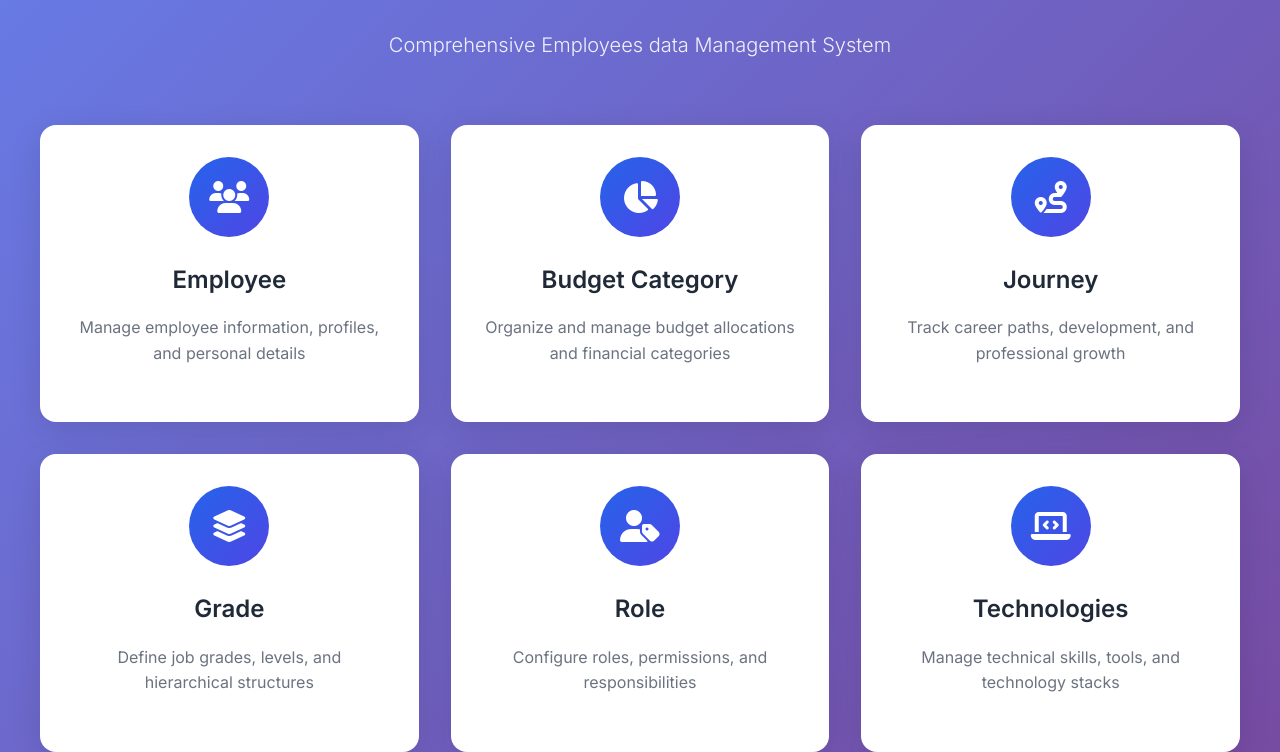
Test case: Master Portal - Role Management › should navigate to Role Management
The image size is (1280, 752).
(page scrolled)
Click the text "Role". click: point(641, 603)
box: [451,454,830,751]
(page scrolled)
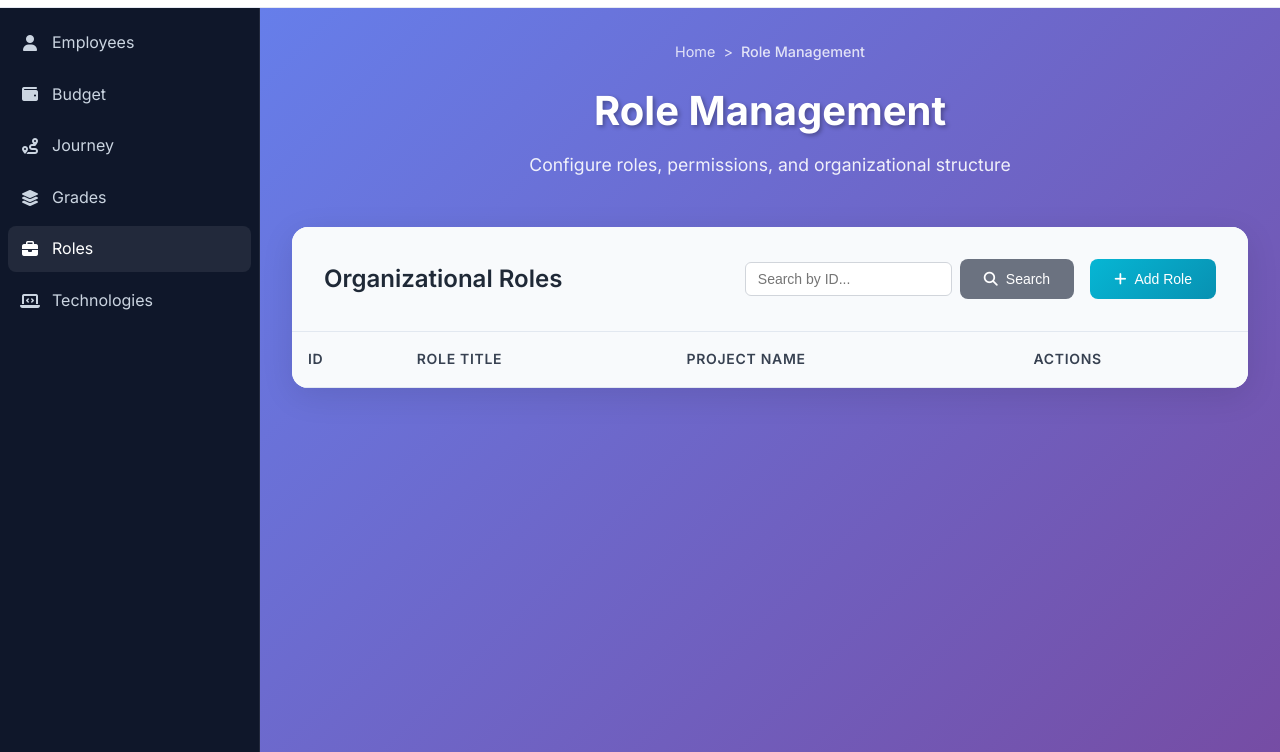
Expected: the text "Role Management" is shown, [741,43,865,60]
